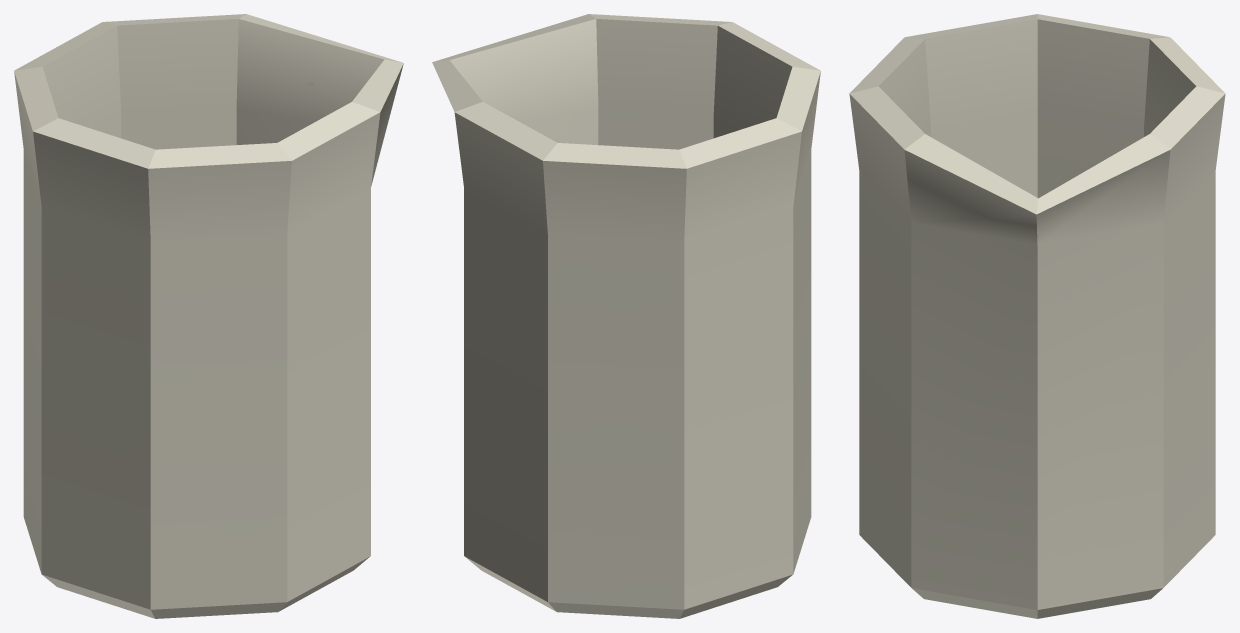
Rendered from beaker.fbx.
The picture shows the model from 3 angles, left to right: view 1: azimuth 30°, elevation 25°; view 2: azimuth 150°, elevation 25°; view 3: azimuth 270°, elevation 25°; orthographic projection.
Visible parts, largest first — view 1: beaker; view 2: beaker; view 3: beaker.
Part boxes in pixels (x1,y1,x2,y2): beaker: [14, 14, 403, 618]; beaker: [432, 14, 820, 618]; beaker: [849, 14, 1225, 618].
Size of the model in its own units: 13.56 by 16.39 by 12.03.
